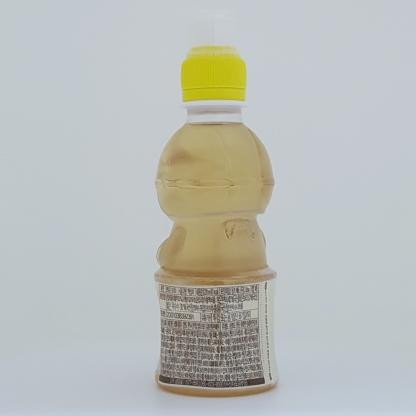--------220ML: (154, 10, 279, 397)
